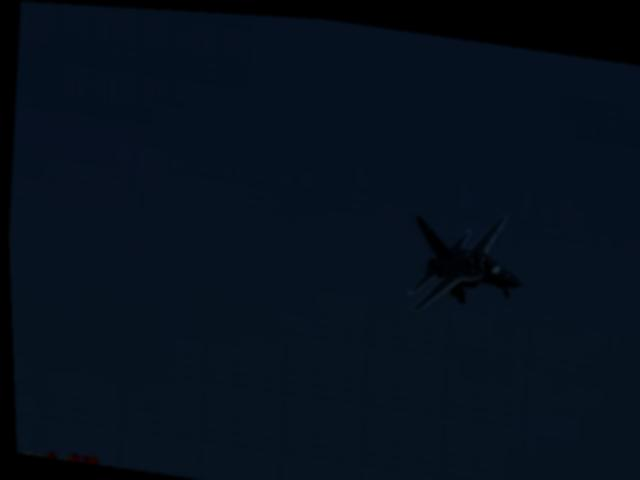uav: (398, 189, 527, 327)
